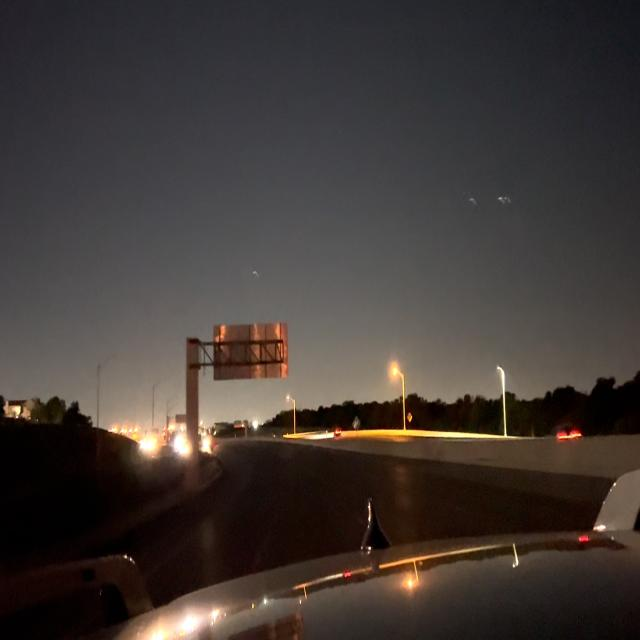back-of-sign: (214, 324, 289, 382)
